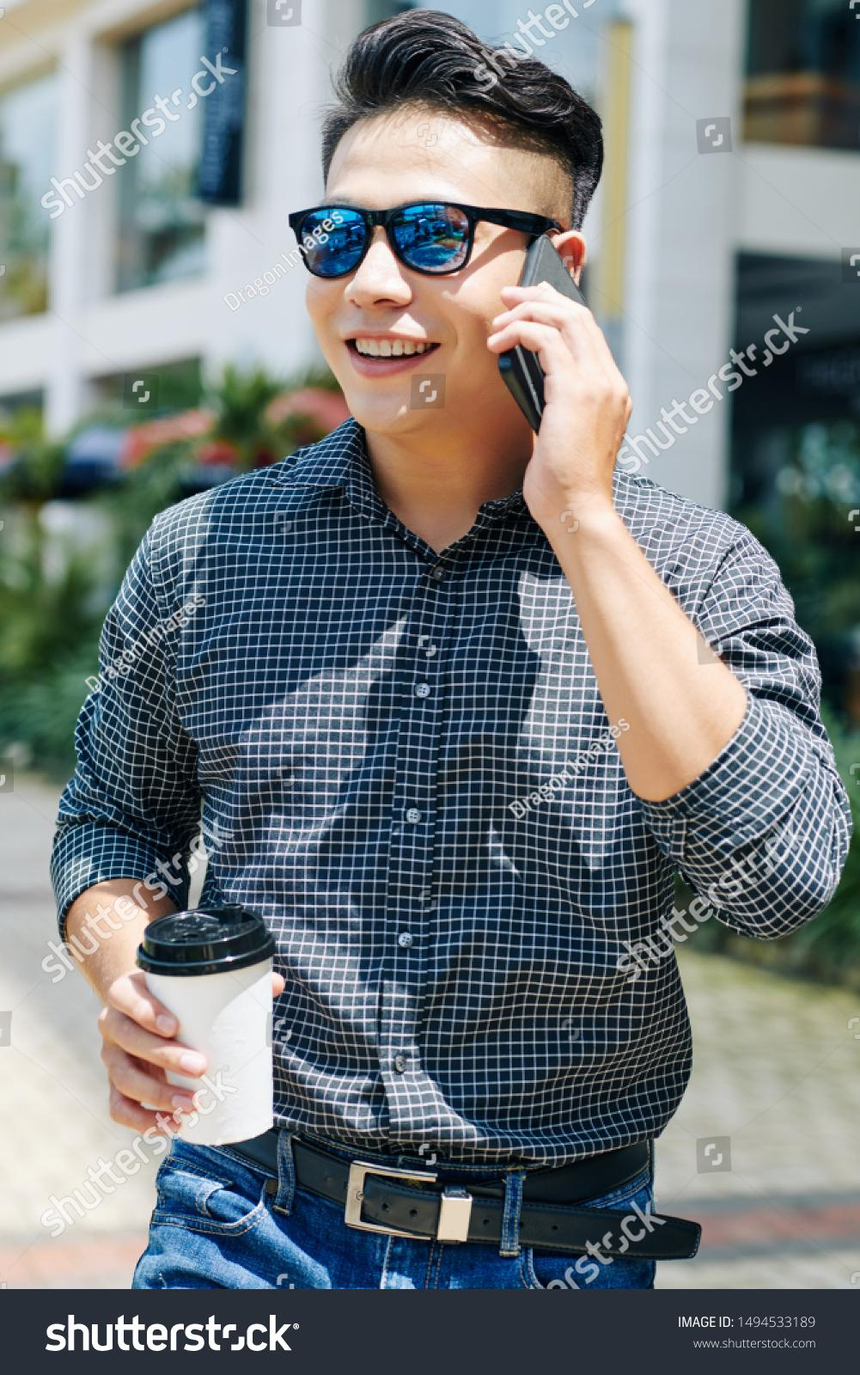sunglasses: (271, 185, 554, 292)
